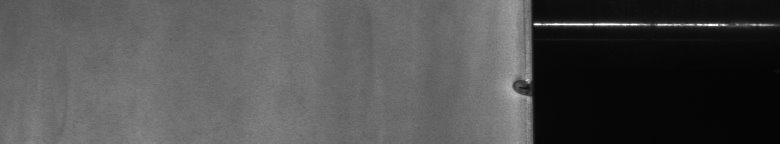hb: (504, 67, 520, 103)
